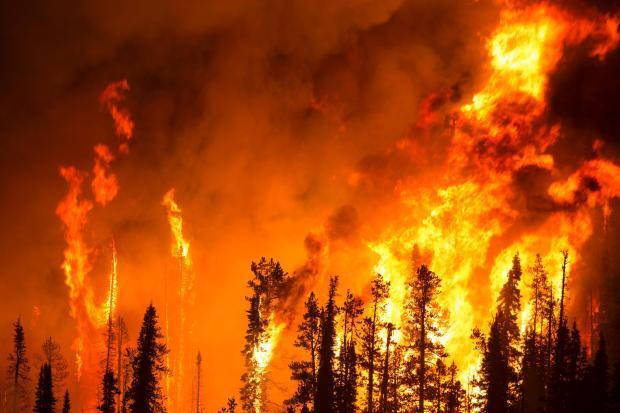fire: (376, 15, 610, 407), (45, 67, 135, 324), (244, 279, 294, 406), (160, 182, 198, 346)
